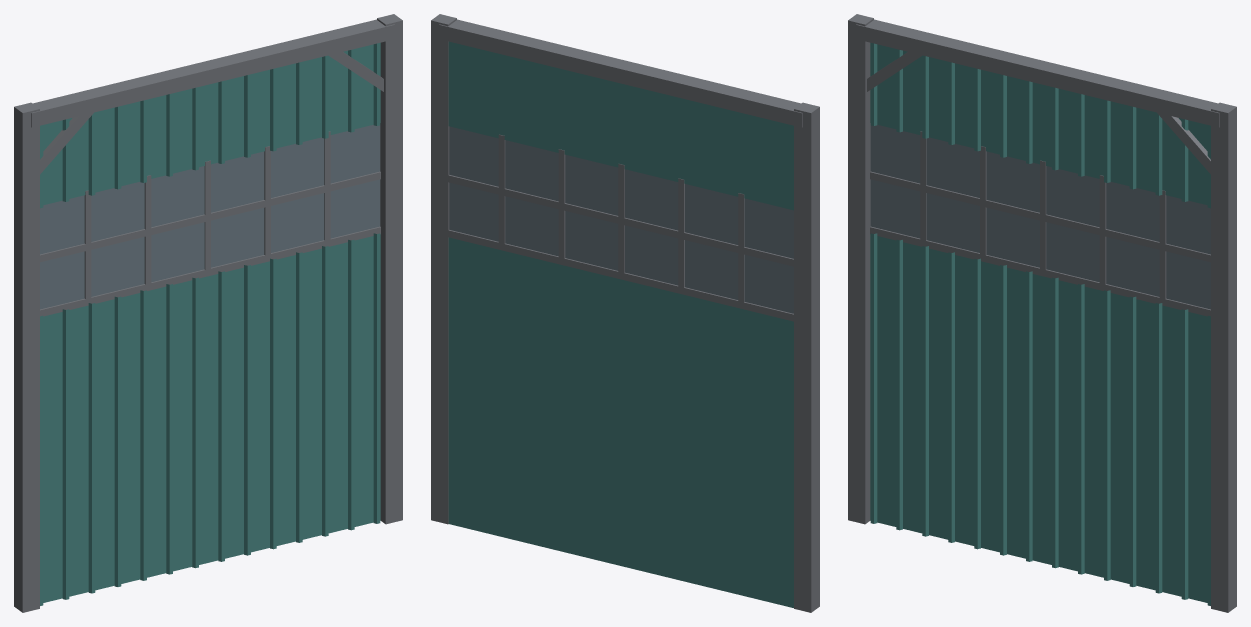
Rendered from steampunk-airship-dock-and-workshop-shed-wall-window-5107833f.glb.
3 views of the same model, side by side, from view 1: azimuth 30°, elevation 25°; view 2: azimuth 150°, elevation 25°; view 3: azimuth 330°, elevation 25° (orthographic).
Parts seen in each view (by area): view 1: shed-wall-window; view 2: shed-wall-window; view 3: shed-wall-window.
Boxes of the visible parts, <box> form: shed-wall-window: <box>14,14,402,612</box>; shed-wall-window: <box>431,14,819,612</box>; shed-wall-window: <box>848,14,1236,612</box>.
Bounding box in the file's own units: 3.98 × 5 × 0.1801.
